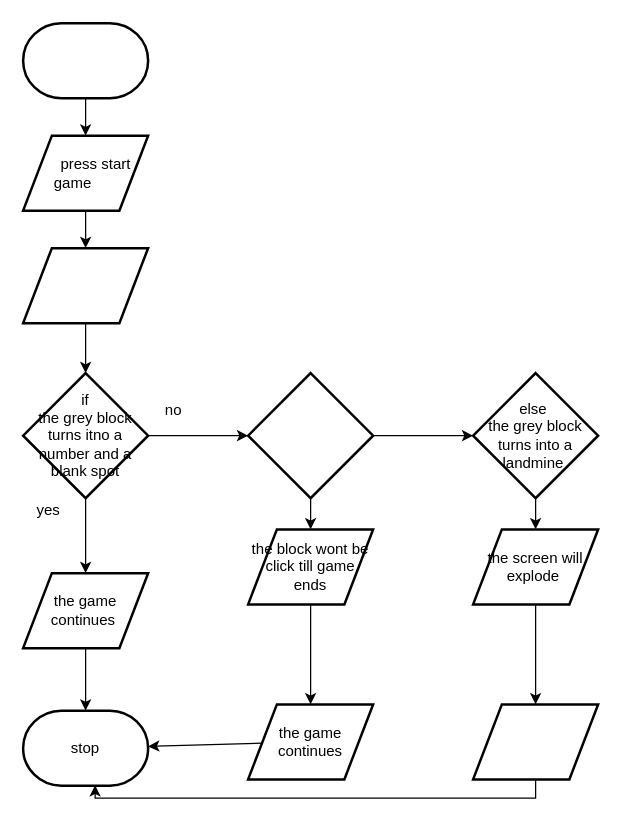
Image size: 620x830. Some labels were removed from this diagram. The shapes that lost their labels are listed below. From the top down, each one's centre as x and y in pixels, then its label:
the point at 85,60: start
the point at 85,285: click the grey block
the point at 310,435: else if you place a red tile on grey block
the point at 535,741: the game will end
